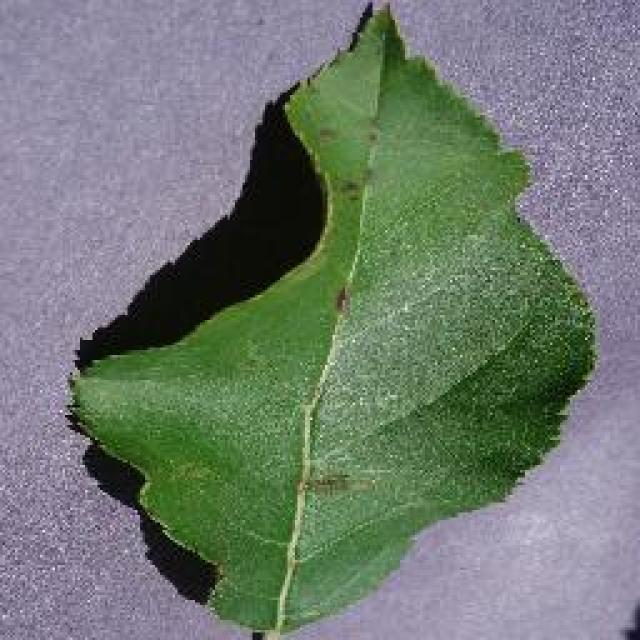apple scab disease: (62, 0, 600, 638)
